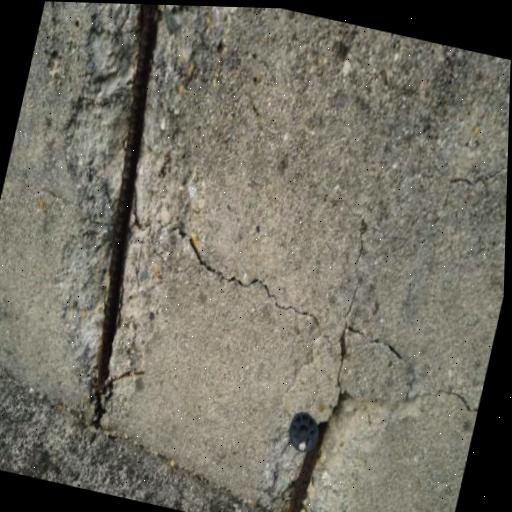exposed_rebar: (95, 4, 158, 406), (289, 421, 327, 512)
